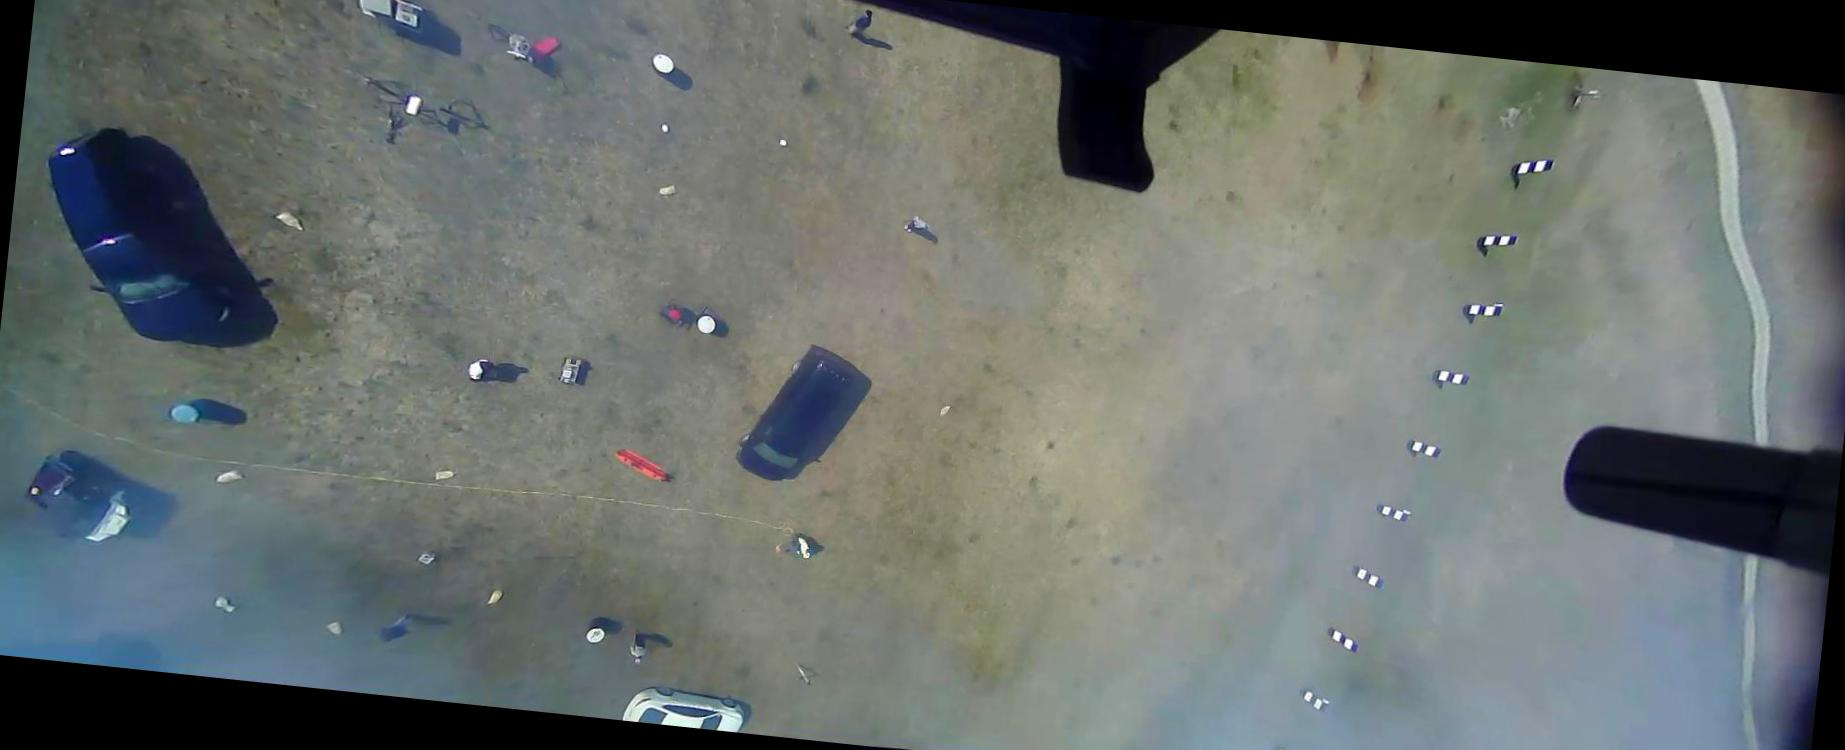vehicle: (27, 120, 254, 352), (732, 343, 855, 489), (19, 450, 140, 547), (0, 616, 165, 672), (620, 682, 746, 732)
